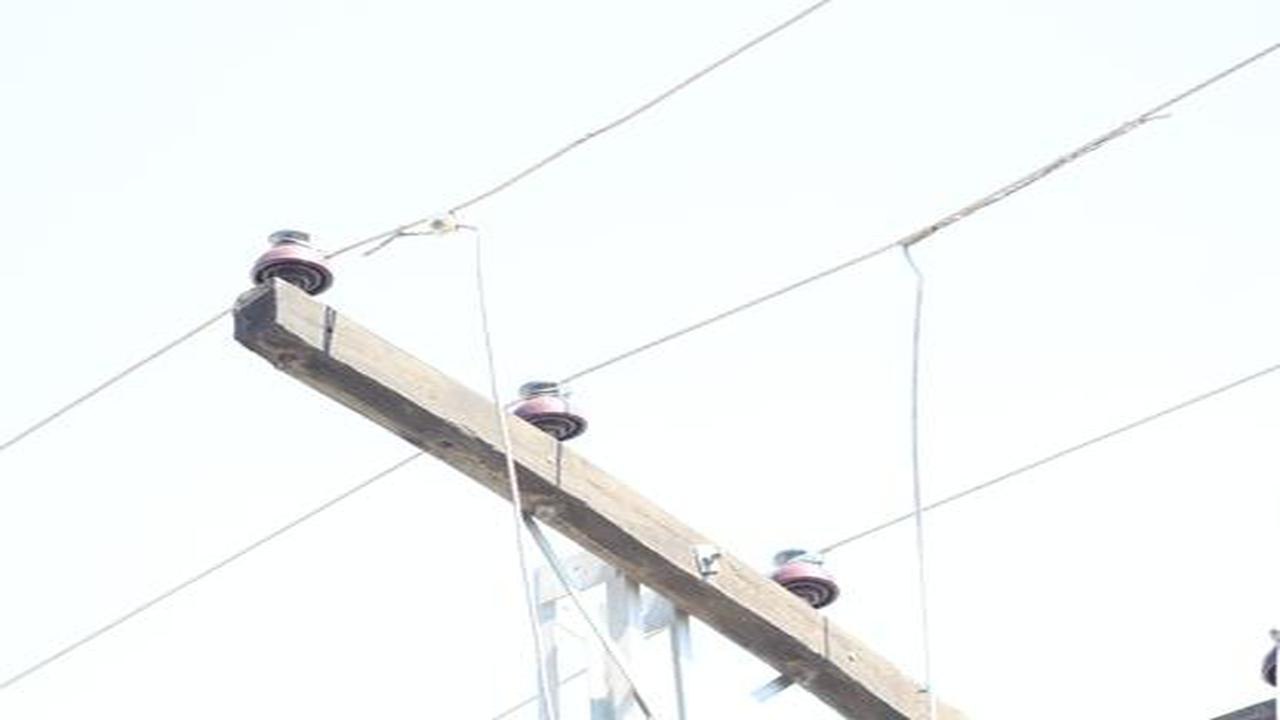insulator_pin: (249, 222, 338, 296), (507, 374, 592, 441), (766, 541, 845, 611)
